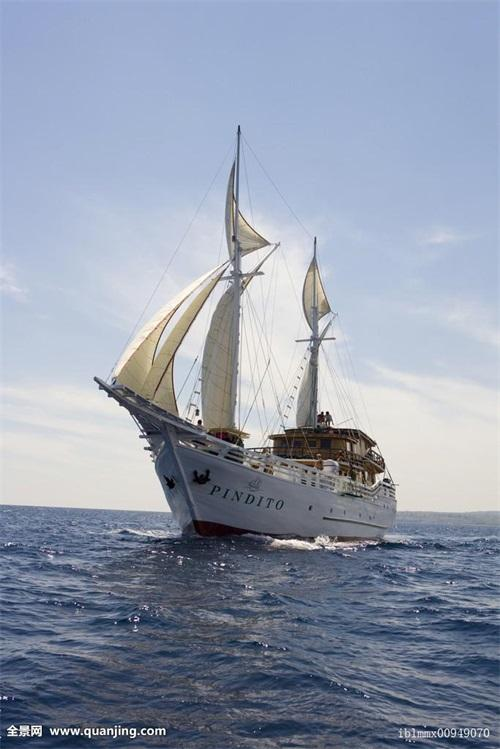Ship: (105, 110, 399, 547)
